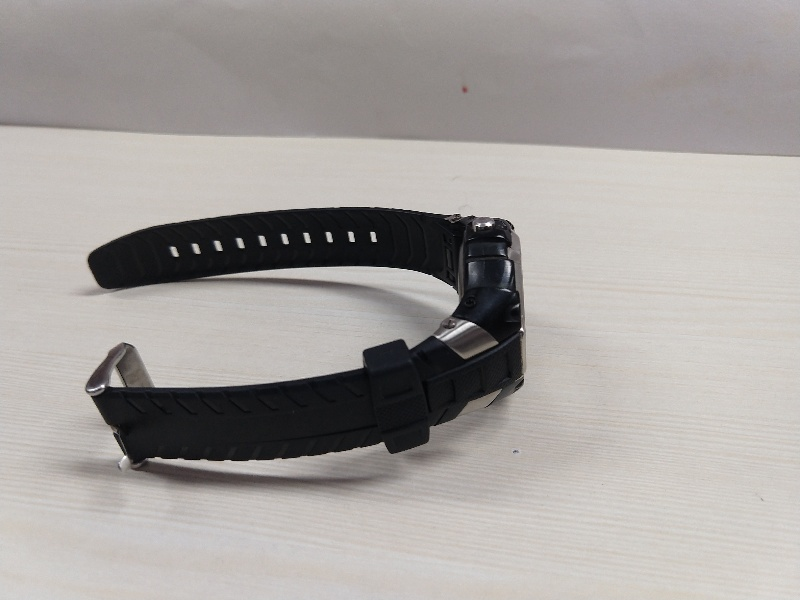watch: (86, 198, 538, 488)
